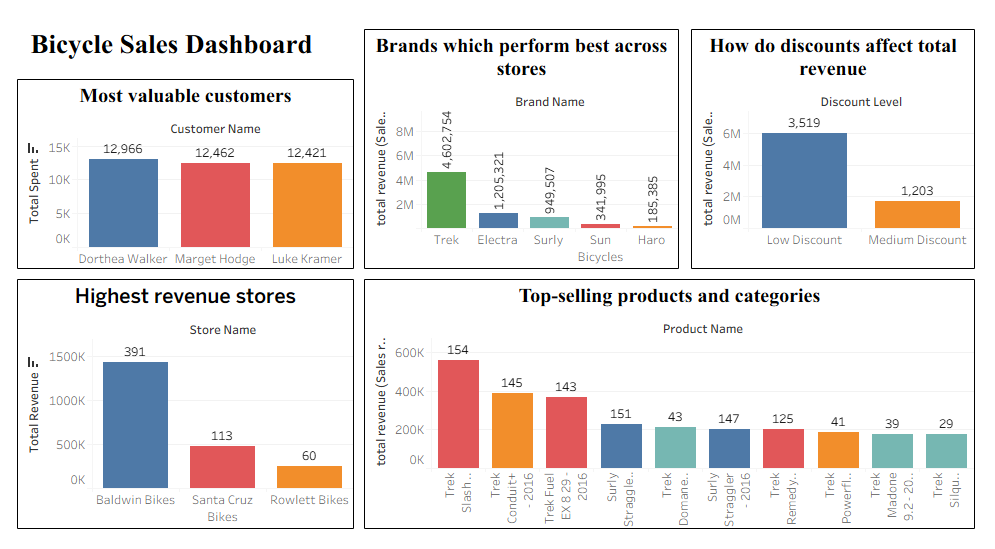

The page's visual inventory and layout, read from the dashboard file:
{"tool":"tableau","page":{"name":"Dashboard","canvas":[1000,560],"ordinal":0},"visuals":[{"type":"text","box":[31.6,10,311.6,70]},{"type":"worksheet","title":"Sheet 4","mark":"Automatic","rows":["total_revenue (Sales_record7.csv)"],"cols":["brand_name"],"box":[368.4,30,314.7,240]},{"type":"worksheet","title":"Sheet 5","mark":"Automatic","rows":["total_revenue (Sales_record10.csv)"],"cols":["discount_level"],"box":[694.7,30,284.2,240]},{"type":"worksheet","title":"Sheet 3","mark":"Automatic","rows":["total_spent"],"cols":["customer_name"],"box":[21.1,80,336.8,190]},{"type":"worksheet","title":"Sheet 1","mark":"Automatic","rows":["total_revenue"],"cols":["store_name"],"box":[21.1,280,336.8,250]},{"type":"worksheet","title":"Sheet 2","mark":"Automatic","rows":["total_revenue (Sales_record2.csv)"],"cols":["product_name"],"box":[368.4,280,610.5,250]}]}

Visuals, with their boxes in screenshot pixels (x1, y1, x2, y2), scaled from the page's 1000x560 canvas onto the 995x549 screenshot:
text: 31/10/341/78
"Sheet 4" worksheet: 367/29/680/265
"Sheet 5" worksheet: 691/29/974/265
"Sheet 3" worksheet: 21/78/356/265
"Sheet 1" worksheet: 21/274/356/520
"Sheet 2" worksheet: 367/274/974/520
